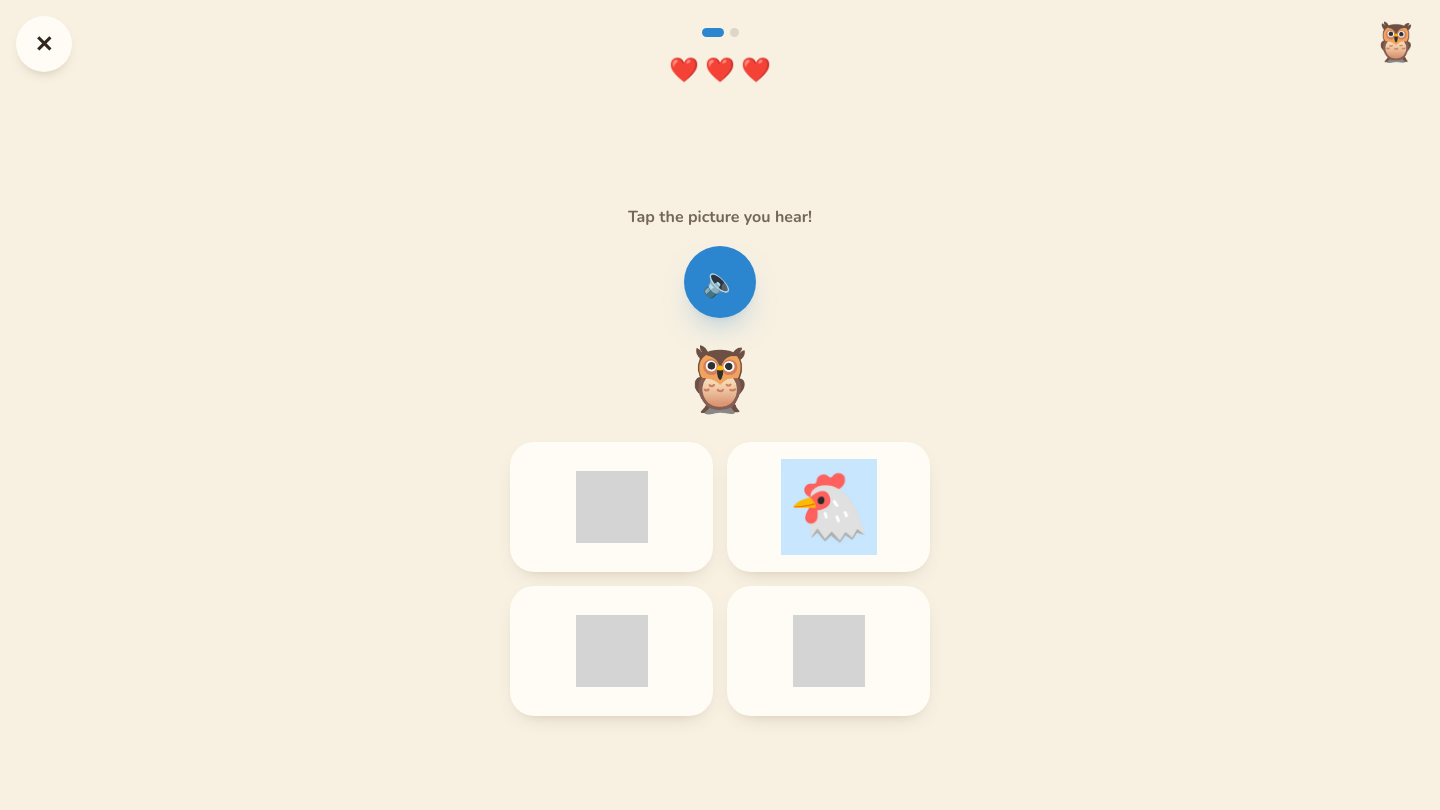
Test case: hearts in a vocab session › hearts on and every answer right still reaches the celebration
This screenshot has width=1440, height=810.
Click the 4th button with alt text "cat" at (828, 651), box [727,586,930,716]
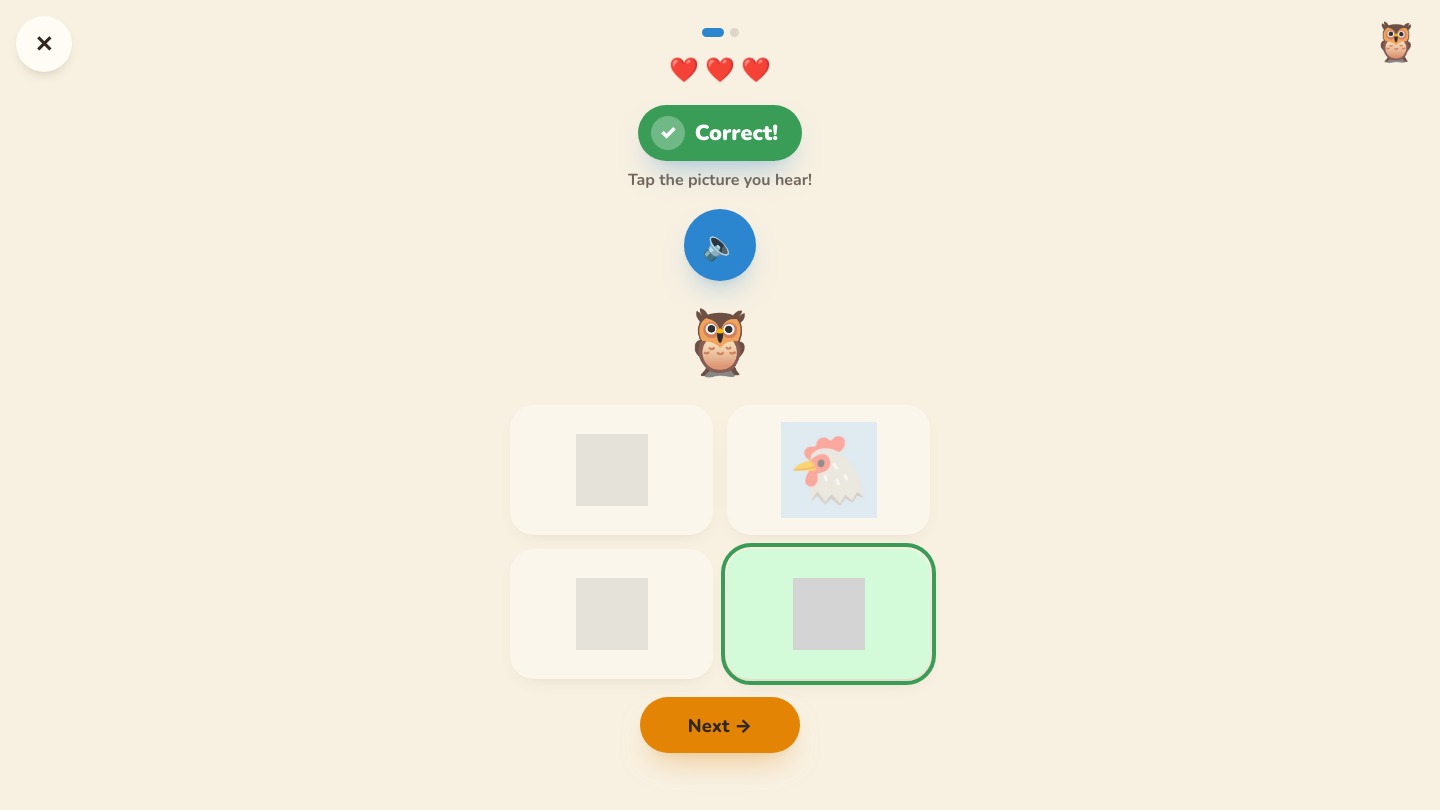
Click the button "Next →" at (720, 725), box [640,697,800,753]
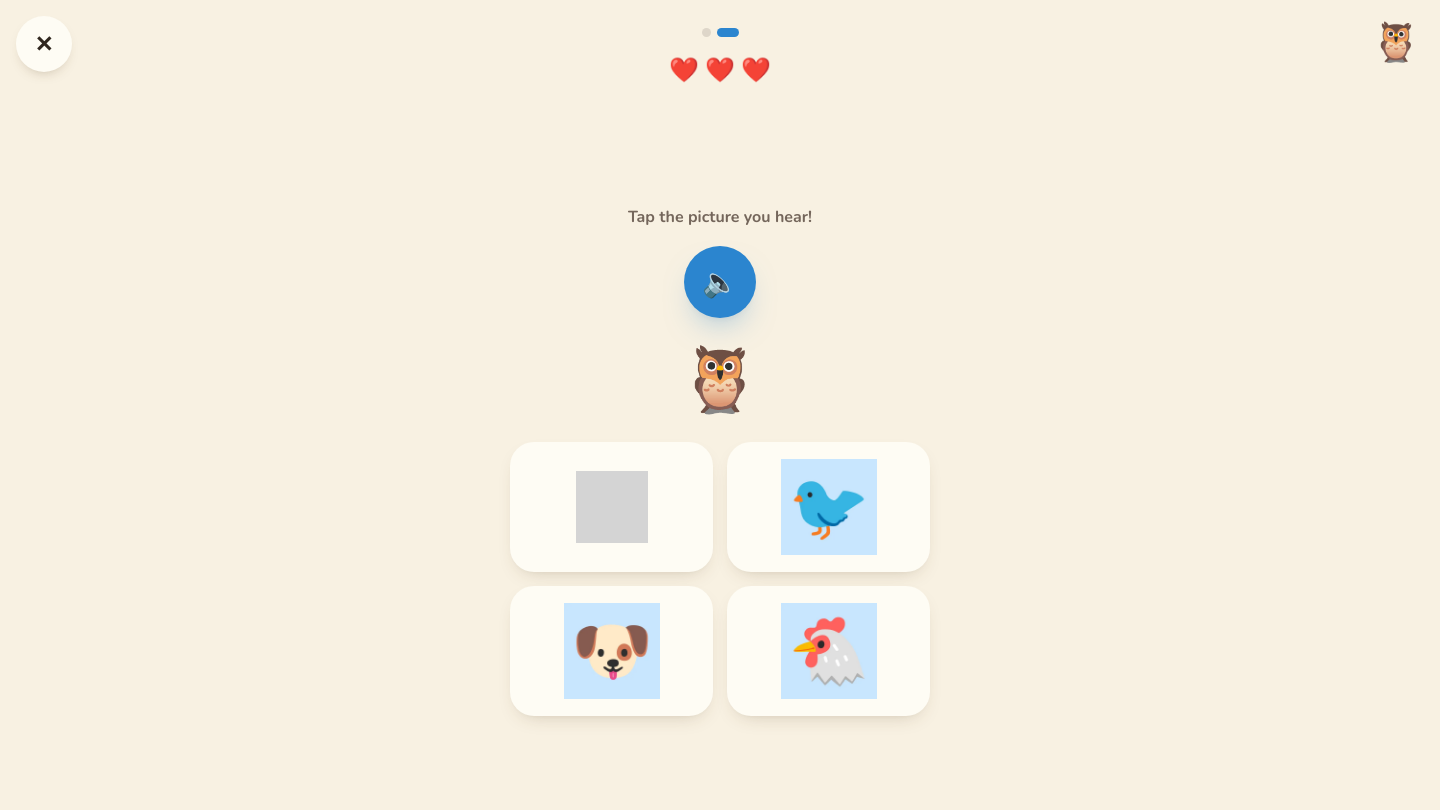
Click the 3rd button with alt text "dog" at (612, 651), box [510,586,713,716]
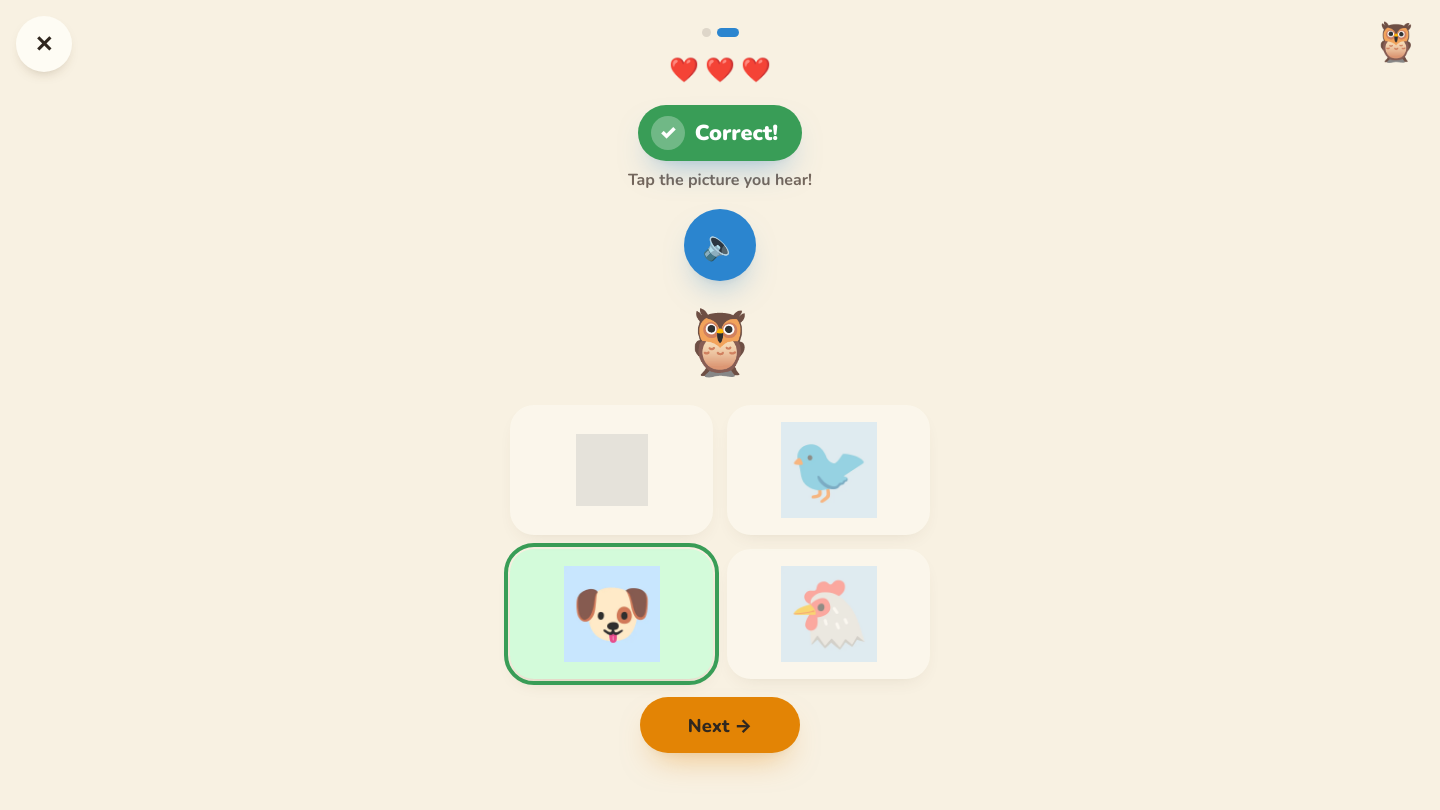
Click the button "Next →" at (720, 725), box [640,697,800,753]
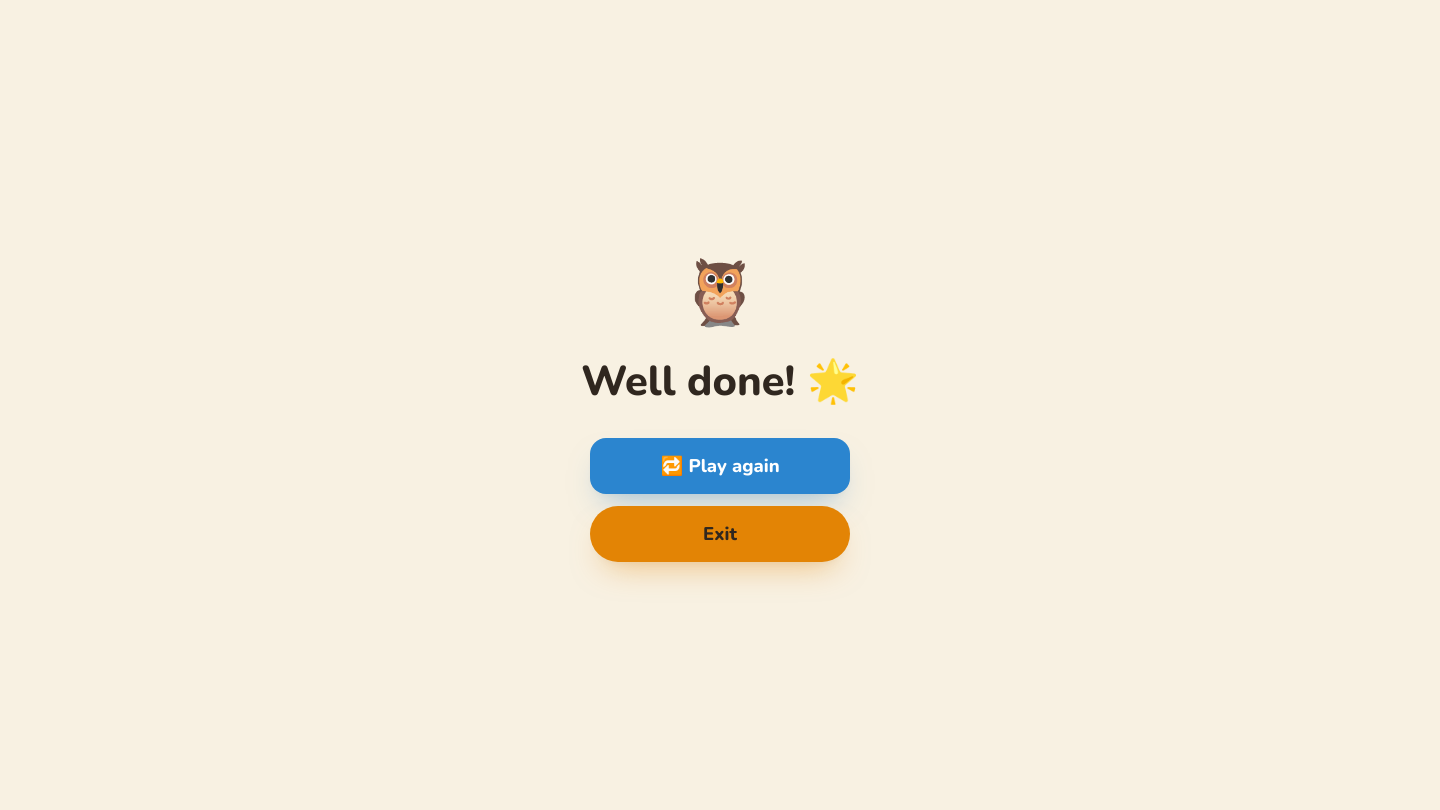
Now the heading "Well done! 🌟" is shown, box [581,352,859,410]
